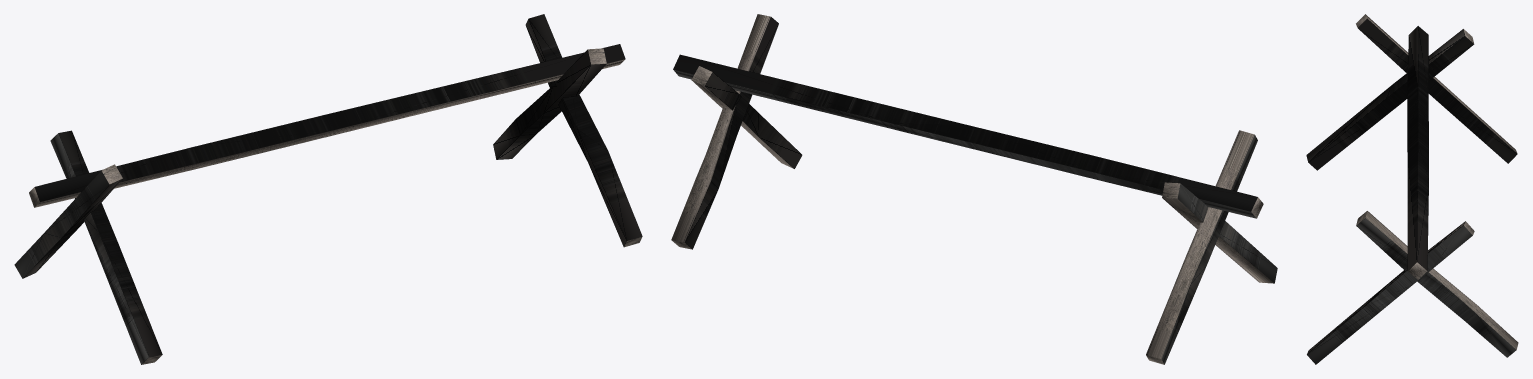
The model's file is baricade1_LOD1.fbx.
3 views of the same model, side by side, from view 1: azimuth 30°, elevation 25°; view 2: azimuth 150°, elevation 25°; view 3: azimuth 270°, elevation 25° (orthographic). The views are drawn at different scales.
Visible parts, largest first — view 1: baricade1_LOD1; view 2: baricade1_LOD1; view 3: baricade1_LOD1.
Boxes of the visible parts, left/top/right/bottom form: baricade1_LOD1: left=14, top=14, right=642, bottom=364; baricade1_LOD1: left=671, top=14, right=1277, bottom=364; baricade1_LOD1: left=1306, top=14, right=1518, bottom=364.
Size of the model in its own units: 4.11 by 1.2 by 1.55.
